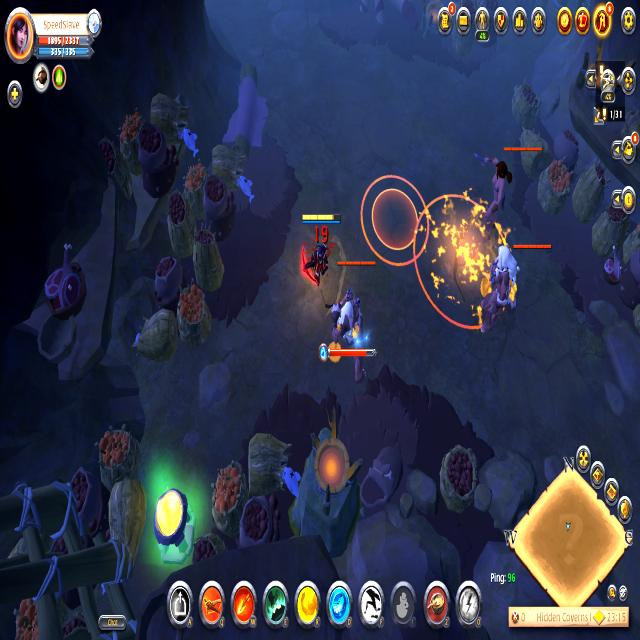fiber: (150, 480, 202, 566)
ore: (476, 233, 556, 336), (320, 255, 380, 386), (470, 138, 546, 230)
red: (297, 202, 340, 292)
silver: (412, 191, 516, 335), (358, 171, 430, 270)
